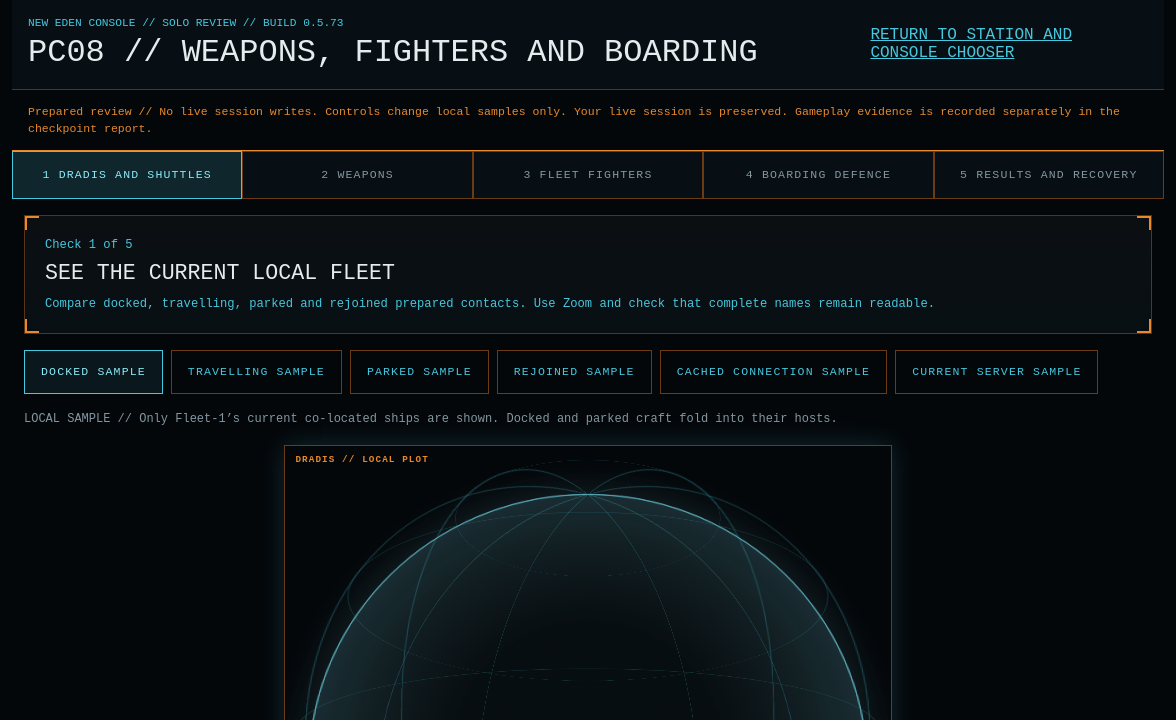
Test: uses safe damage coverage to explain and enforce prepared Short Range target choices
The width and height of the screenshot is (1176, 720).
Click the button "2 Weapons".
click(358, 175)  # box [242,151,473,199]
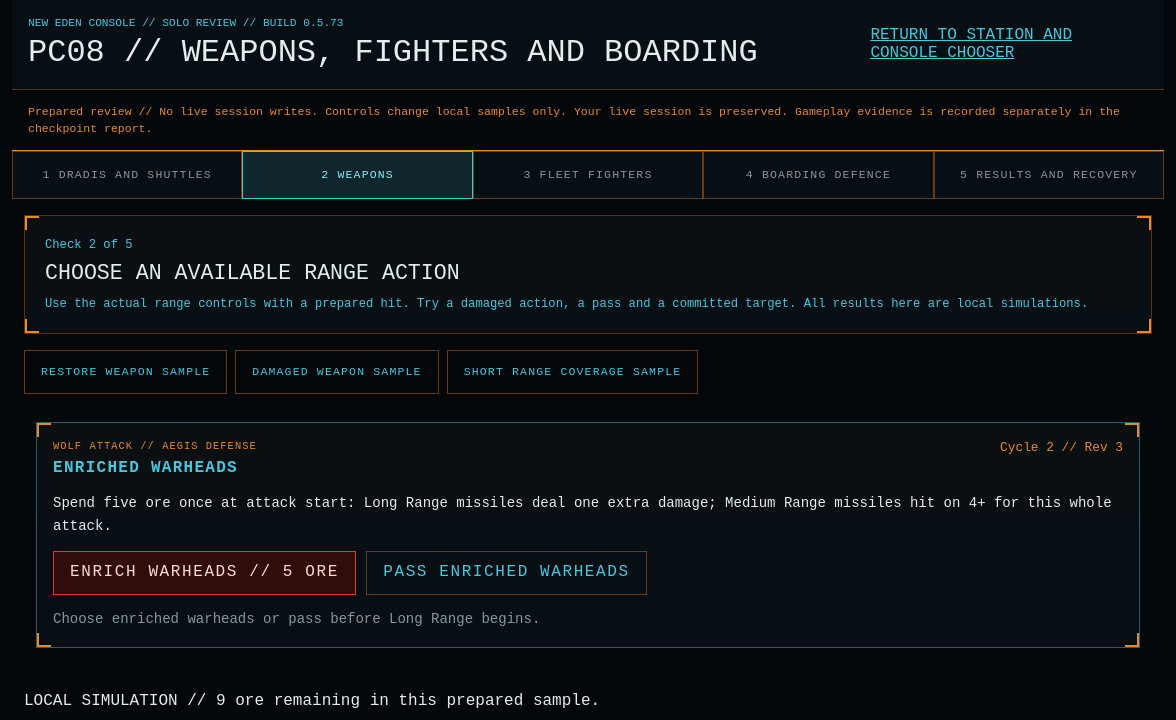
Click the button "Short Range coverage sample".
click(572, 372)  # box [447,350,698,394]
(page scrolled)
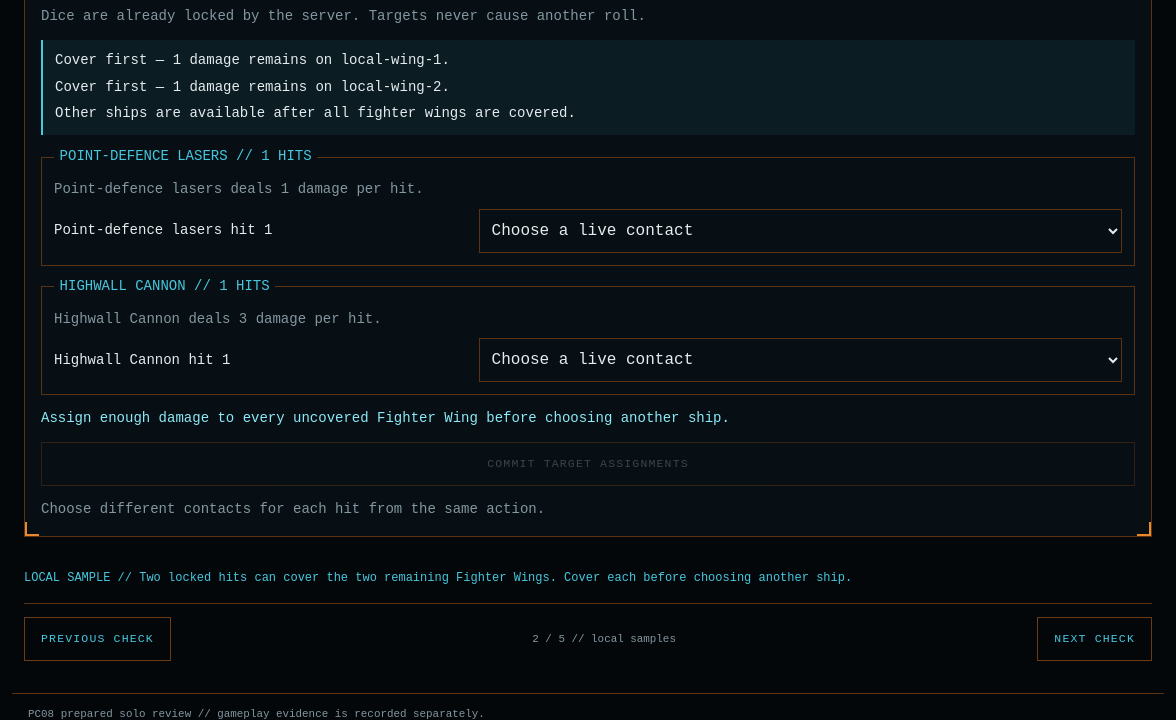
Now the message named "Short Range fighter coverage" shows "1 damage remains on local-wing-1", box [41,40,1135,135]
Now the message named "Short Range fighter coverage" shows "1 damage remains on local-wing-2", box [41,40,1135,135]
Now the message named "Short Range fighter coverage" shows "Other ships are available after all fighter wings are covered", box [55,105,576,121]
Select "local-wing-1 — AEGIS" in the dropdown labelled "Highwall Cannon hit 1" at (800, 360), box [479,338,1122,382]
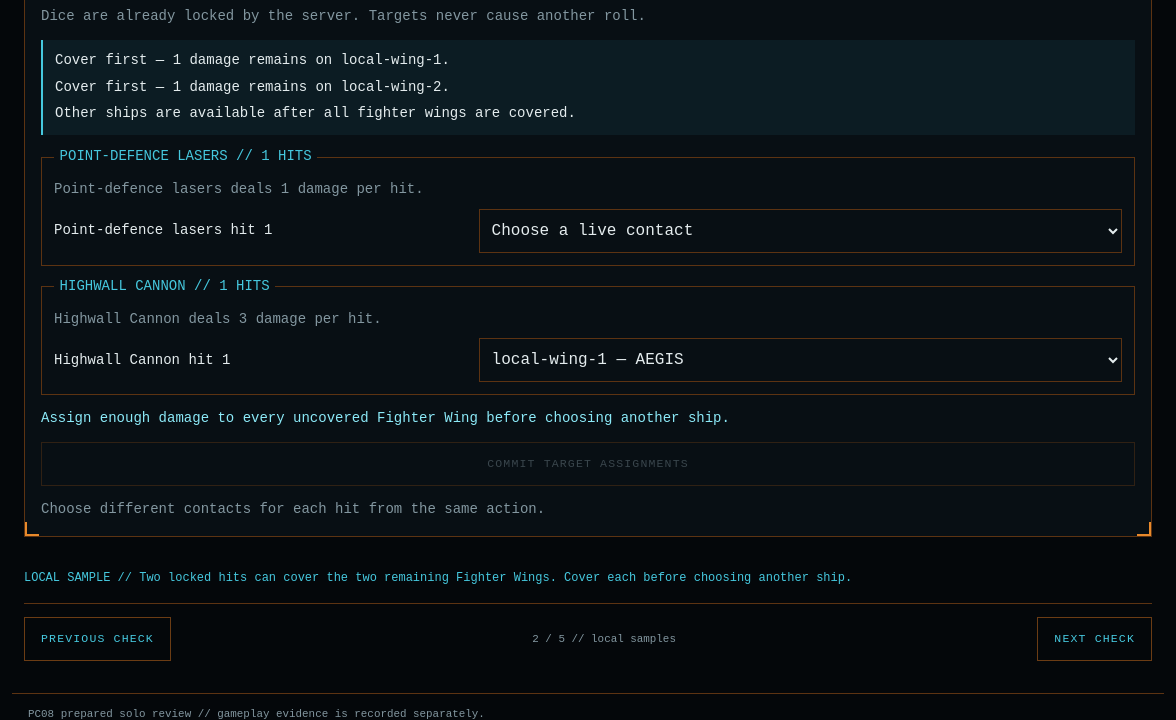
Select "local-ship-1 — DIONE" in the dropdown labelled "Point-defence lasers hit 1" at (800, 231), box [479,209,1122,253]
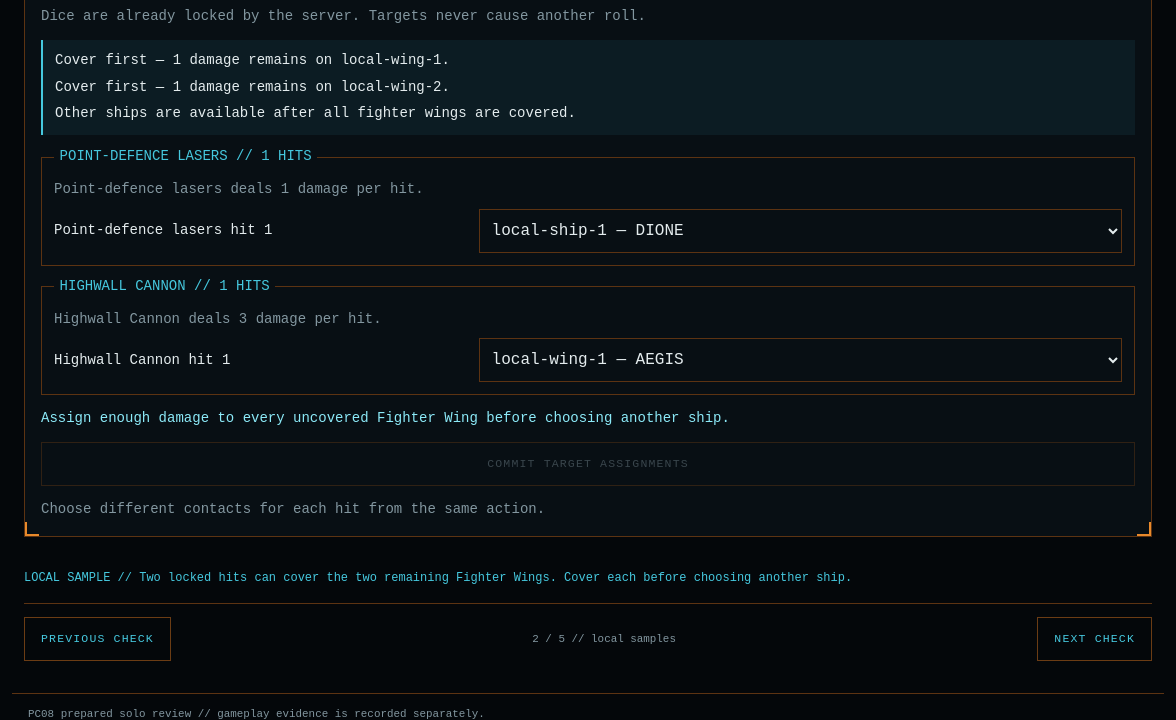
Now the button "Commit target assignments" is disabled, box [41,442,1135,486]
Select "local-wing-2 — ICEBREAKER" in the dropdown labelled "Point-defence lasers hit 1" at (800, 231), box [479,209,1122,253]
(page scrolled)
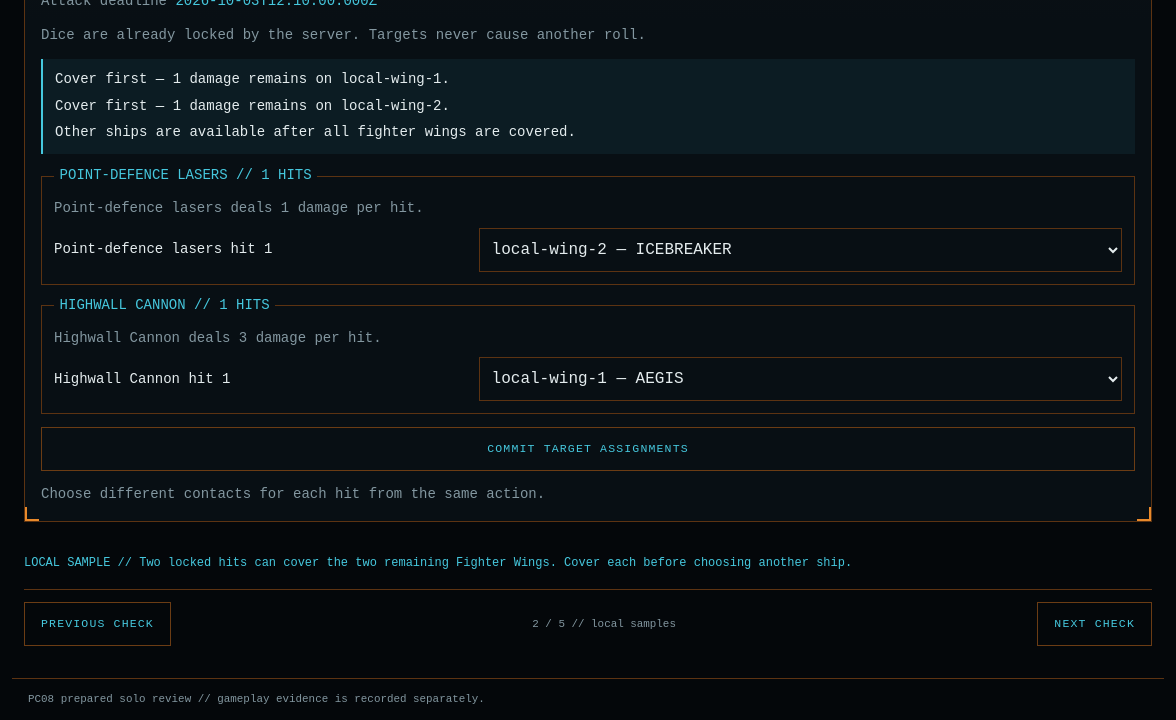
Now the button "Commit target assignments" is enabled
Click the button "Commit target assignments".
click(588, 449)  # box [41,427,1135,471]
(page scrolled)
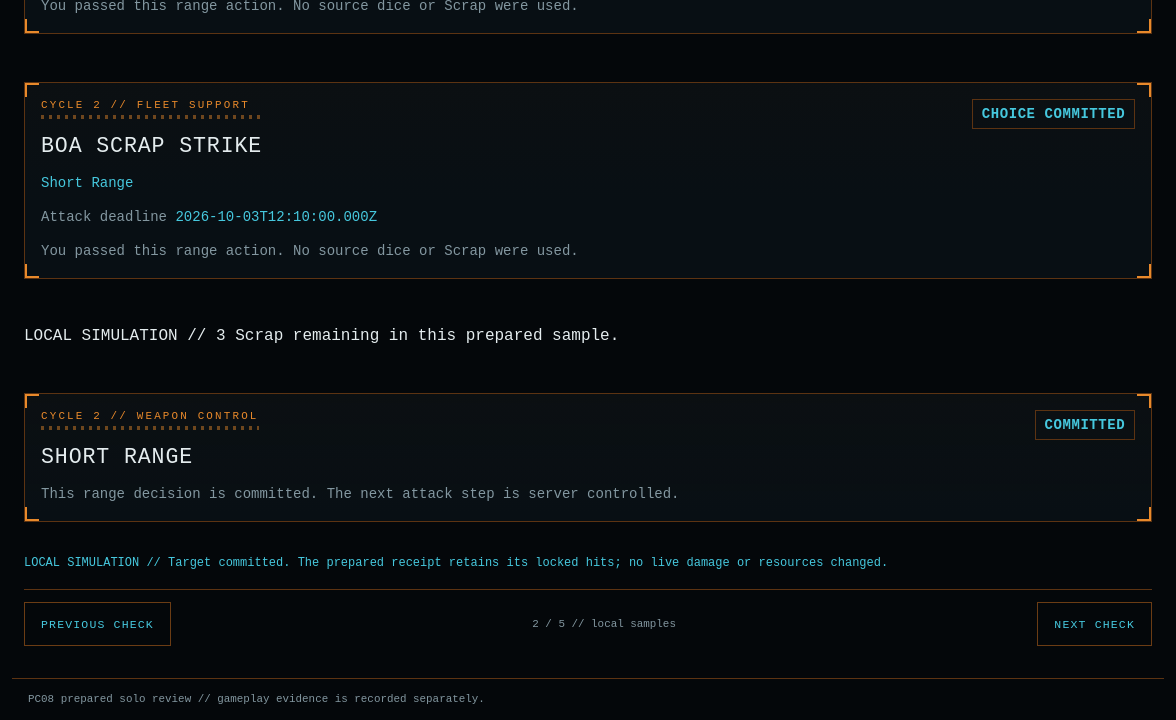
Now the message named "Prepared weapon result" shows "Target committed", box [24,556,888,570]
Now the button "Commit target assignments" is gone
